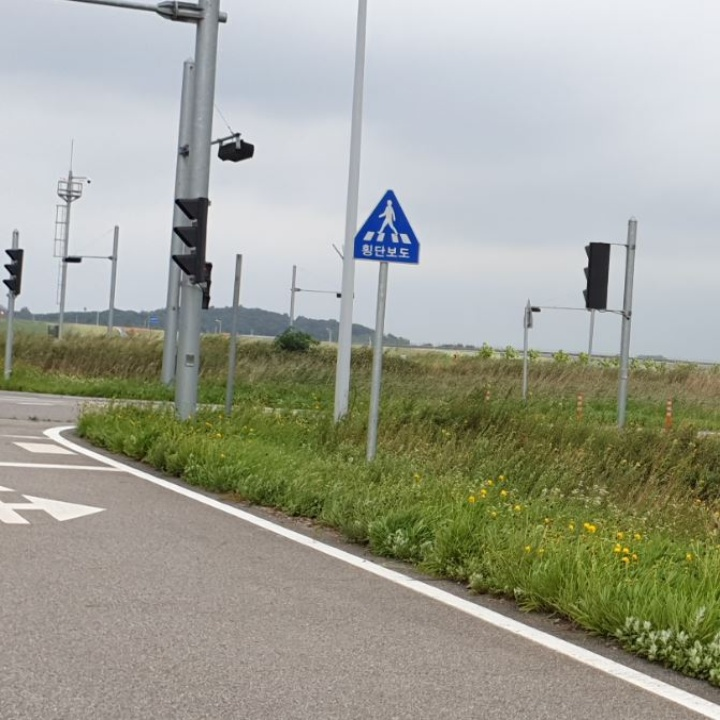cross: (365, 192, 408, 241)
